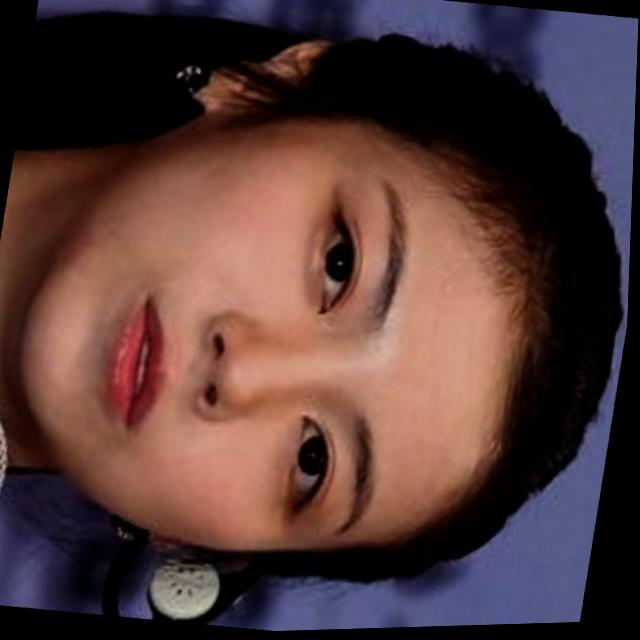face: (0, 64, 625, 614)
